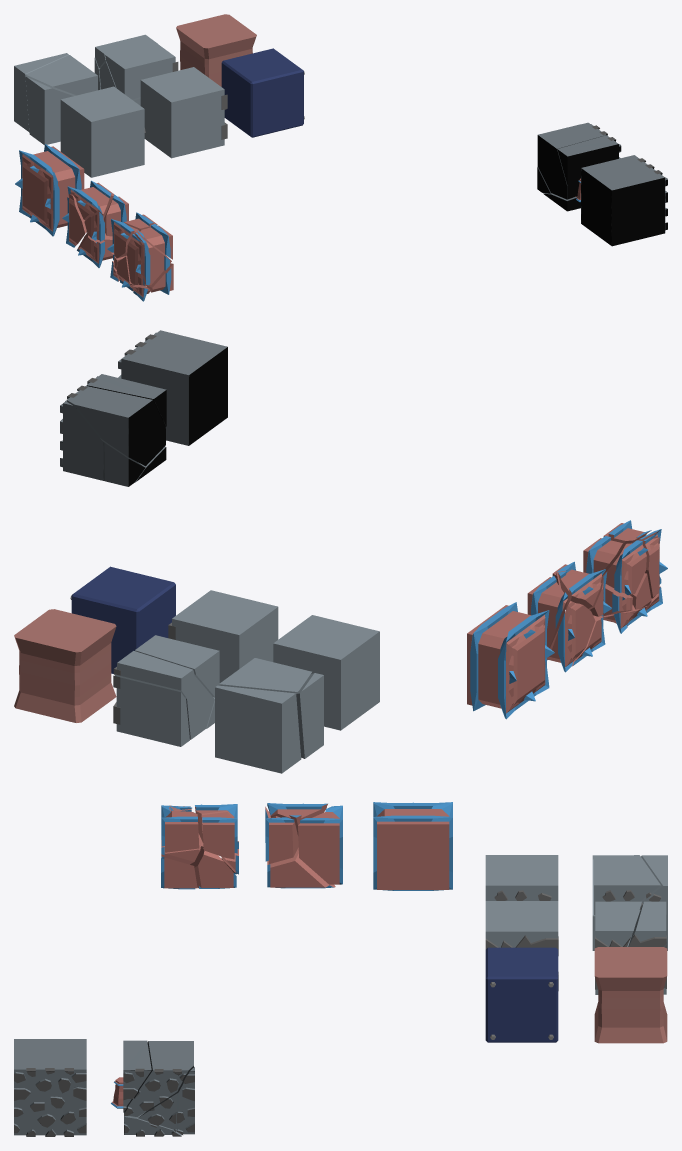
The model's file is Blocks1.fbx.
3 renders of one model, top to bottom at view 1: azimuth 30°, elevation 25°; view 2: azimuth 150°, elevation 25°; view 3: azimuth 270°, elevation 25°, orthographic. The views are drawn at different scales.
Visible parts, largest first — view 1: Block2_1, Block1_1, Block0_1, StellBLock, Block0_2, Block2_2, GunBody_2, GunBody, GunBody_1, Block1_2, Wal; view 2: Block0_2, Block2_2, Block1_2, Wal, Block2_1, Block0_1, GunBody, StellBLock, Block1_1, GunBody_2, GunBody_1; view 3: Block2_1, StellBLock, GunBody, Wal, Block2_2, GunBody_1, GunBody_2, Block0_2, Block1_1, Block1_2, Block0_1.
Part boxes in pixels (x1=…): Block2_1: x1=581, y1=155, x2=667, y2=246; Block1_1: x1=140, y1=67, x2=227, y2=158; Block0_1: x1=60, y1=86, x2=145, y2=177; StellBLock: x1=221, y1=48, x2=304, y2=137; Block0_2: x1=14, y1=53, x2=97, y2=145; Block2_2: x1=537, y1=122, x2=621, y2=211; GunBody_2: x1=107, y1=212, x2=173, y2=301; GunBody: x1=15, y1=144, x2=84, y2=236; GunBody_1: x1=62, y1=180, x2=128, y2=267; Block1_2: x1=94, y1=34, x2=178, y2=105; Wal: x1=176, y1=14, x2=256, y2=86; Block0_2: x1=215, y1=658, x2=323, y2=773; Block2_2: x1=60, y1=374, x2=166, y2=486; Block1_2: x1=113, y1=635, x2=219, y2=746; Wal: x1=14, y1=609, x2=116, y2=722; Block2_1: x1=118, y1=330, x2=227, y2=445; Block0_1: x1=273, y1=615, x2=379, y2=730; GunBody: x1=467, y1=602, x2=554, y2=719; StellBLock: x1=70, y1=566, x2=175, y2=673; Block1_1: x1=168, y1=590, x2=278, y2=685; GunBody_2: x1=583, y1=520, x2=667, y2=633; GunBody_1: x1=527, y1=561, x2=611, y2=672; Block2_1: x1=14, y1=1039, x2=86, y2=1136; StellBLock: x1=485, y1=947, x2=558, y2=1042; GunBody: x1=373, y1=802, x2=452, y2=890; Wal: x1=594, y1=947, x2=667, y2=1043; Block2_2: x1=123, y1=1040, x2=194, y2=1136; GunBody_1: x1=265, y1=803, x2=342, y2=888; GunBody_2: x1=161, y1=804, x2=238, y2=889; Block0_2: x1=592, y1=855, x2=667, y2=950; Block1_1: x1=485, y1=901, x2=558, y2=990; Block1_2: x1=595, y1=901, x2=666, y2=994; Block0_1: x1=485, y1=855, x2=558, y2=900.
Bounding box in the file's own units: 1755 × 220 × 1802.
